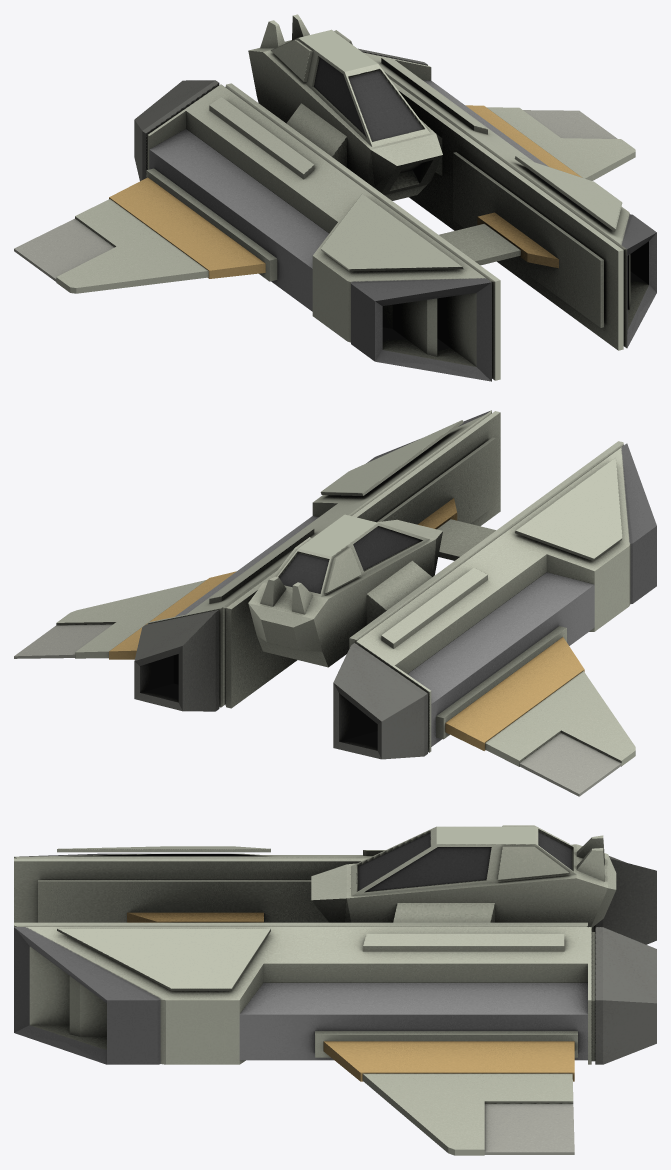
The model's file is Ship01.fbx.
The picture shows the model from 3 angles, top to bottom: view 1: azimuth 30°, elevation 25°; view 2: azimuth 150°, elevation 25°; view 3: azimuth 270°, elevation 25°; orthographic projection. The views are drawn at different scales.
Parts seen in each view (by area): view 1: MAIN; view 2: MAIN; view 3: MAIN.
Part boxes in pixels (box(x1,y1,x2,y2)): MAIN: box(14, 14, 656, 381); MAIN: box(14, 410, 656, 796); MAIN: box(14, 825, 656, 1155).
Bounding box in the file's own units: 686 × 189 × 634.
